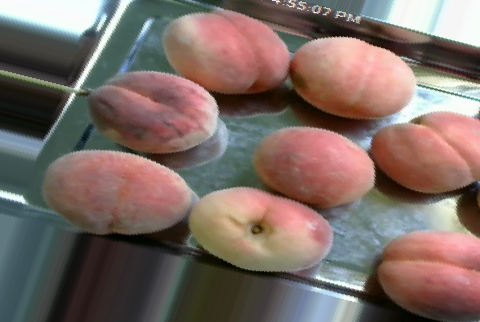Peach: (45, 148, 192, 235), (190, 185, 332, 273), (90, 71, 219, 153), (163, 9, 288, 93), (291, 36, 415, 118), (254, 127, 375, 207), (376, 230, 479, 319), (373, 112, 480, 191)
